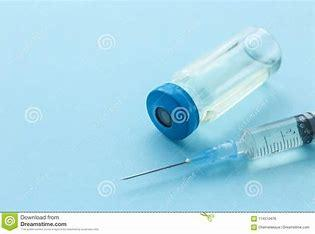Syringe: (139, 24, 286, 138), (116, 127, 315, 184)
